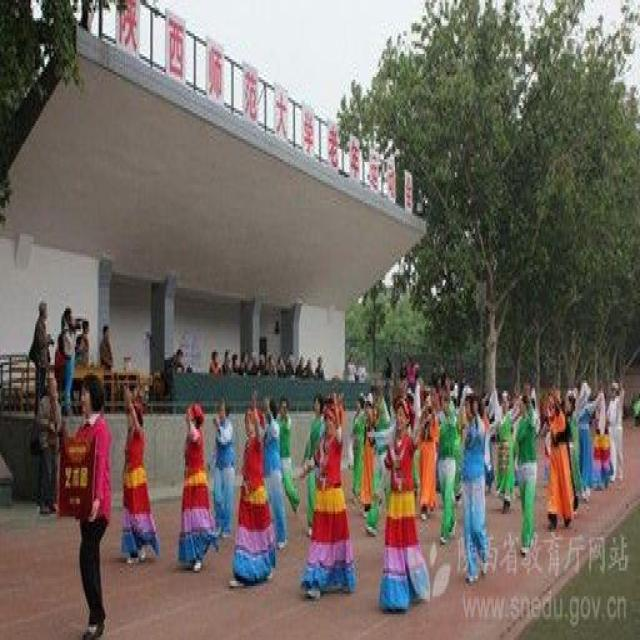non-fight: (366, 398, 424, 610), (71, 371, 112, 640), (300, 395, 349, 604), (232, 391, 269, 588), (178, 403, 213, 569), (460, 388, 489, 586), (124, 390, 154, 563)
